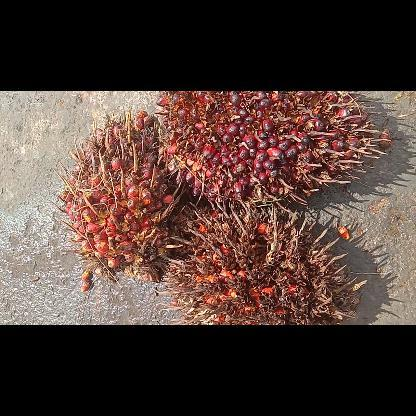TBS masak: (156, 91, 390, 211), (53, 108, 184, 280)
Terlalu masak: (156, 196, 366, 324)
